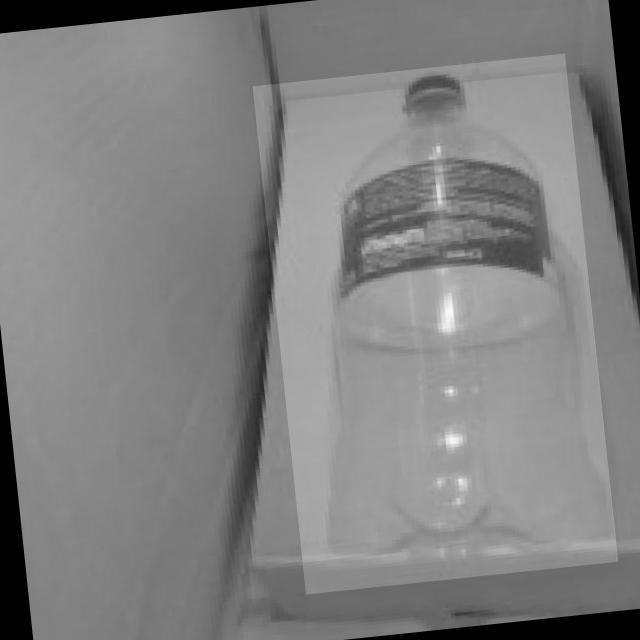good: (251, 51, 617, 594)
